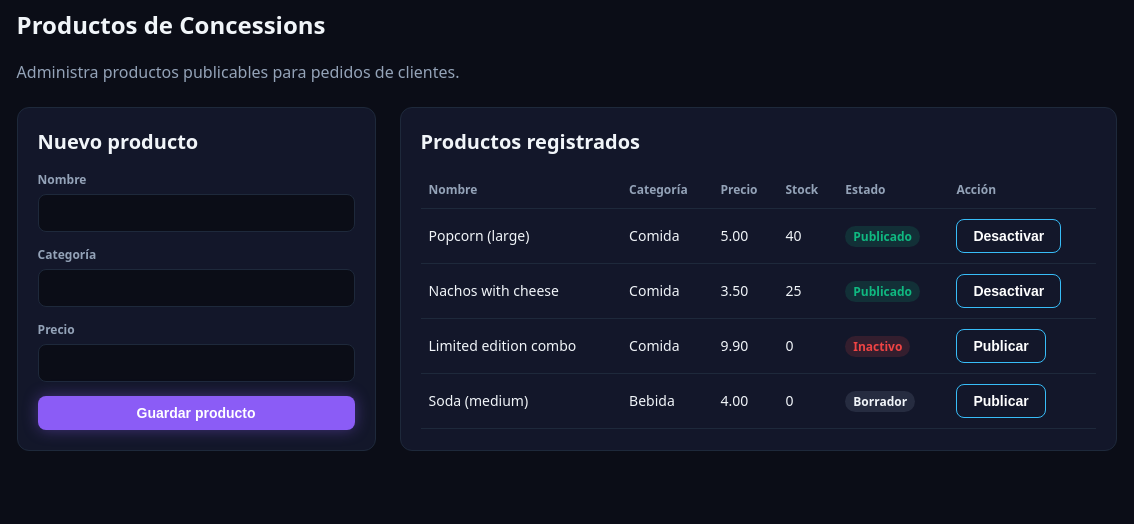
Test: ProductsPageComponent › converts a price with cents to integer cents without float errors
Type "Menu" into the field labelled "Nombre".
click(196, 213); type("Menu")  # box [38,194,354,232]
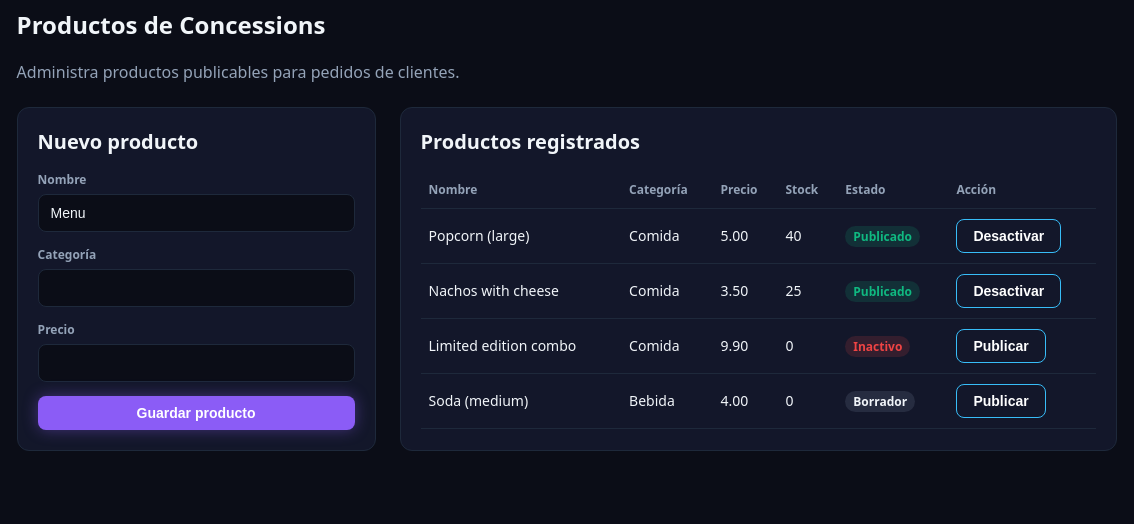
Type "Comida" into the field labelled "Categoría".
click(196, 288); type("Comida")  # box [38,269,354,307]
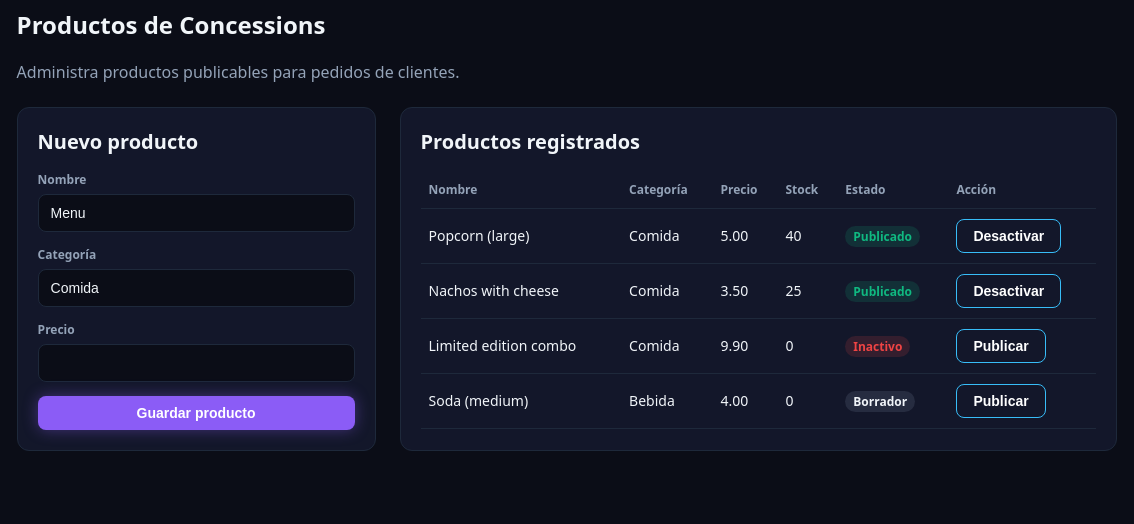
Type "19.99" into the number field labelled "Precio".
click(196, 363); type("19.99")  # box [38,344,354,382]
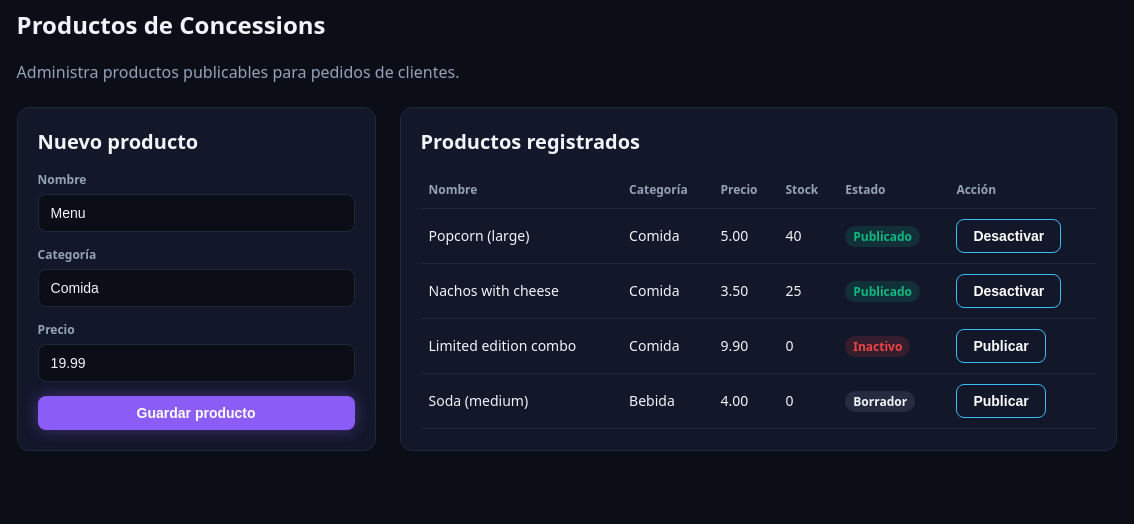
Submit the form, box [38,171,354,430]
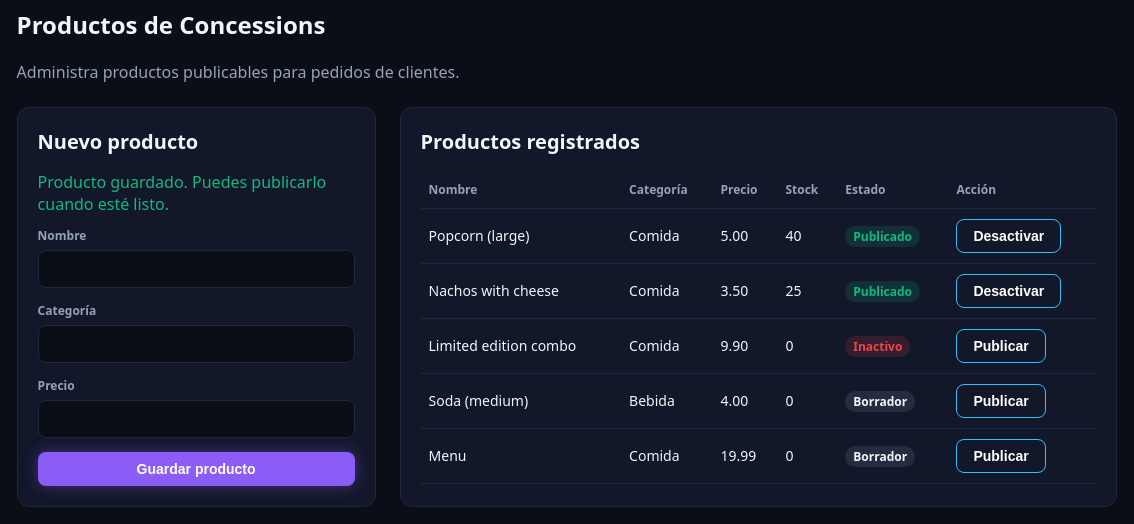
Result: the row with test id "product-row" shows "19.99" at [720,446,756,465]
